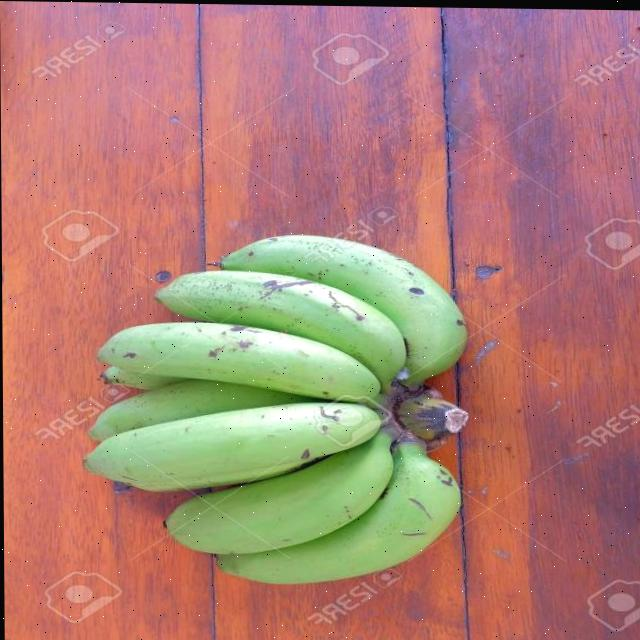banana: (73, 226, 480, 593)
